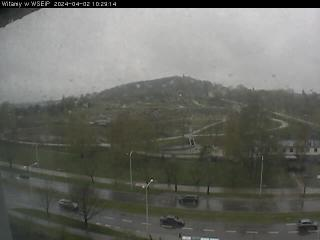car: (159, 214, 186, 228), (178, 193, 200, 206), (297, 217, 319, 230), (58, 197, 80, 210), (18, 172, 30, 179)
